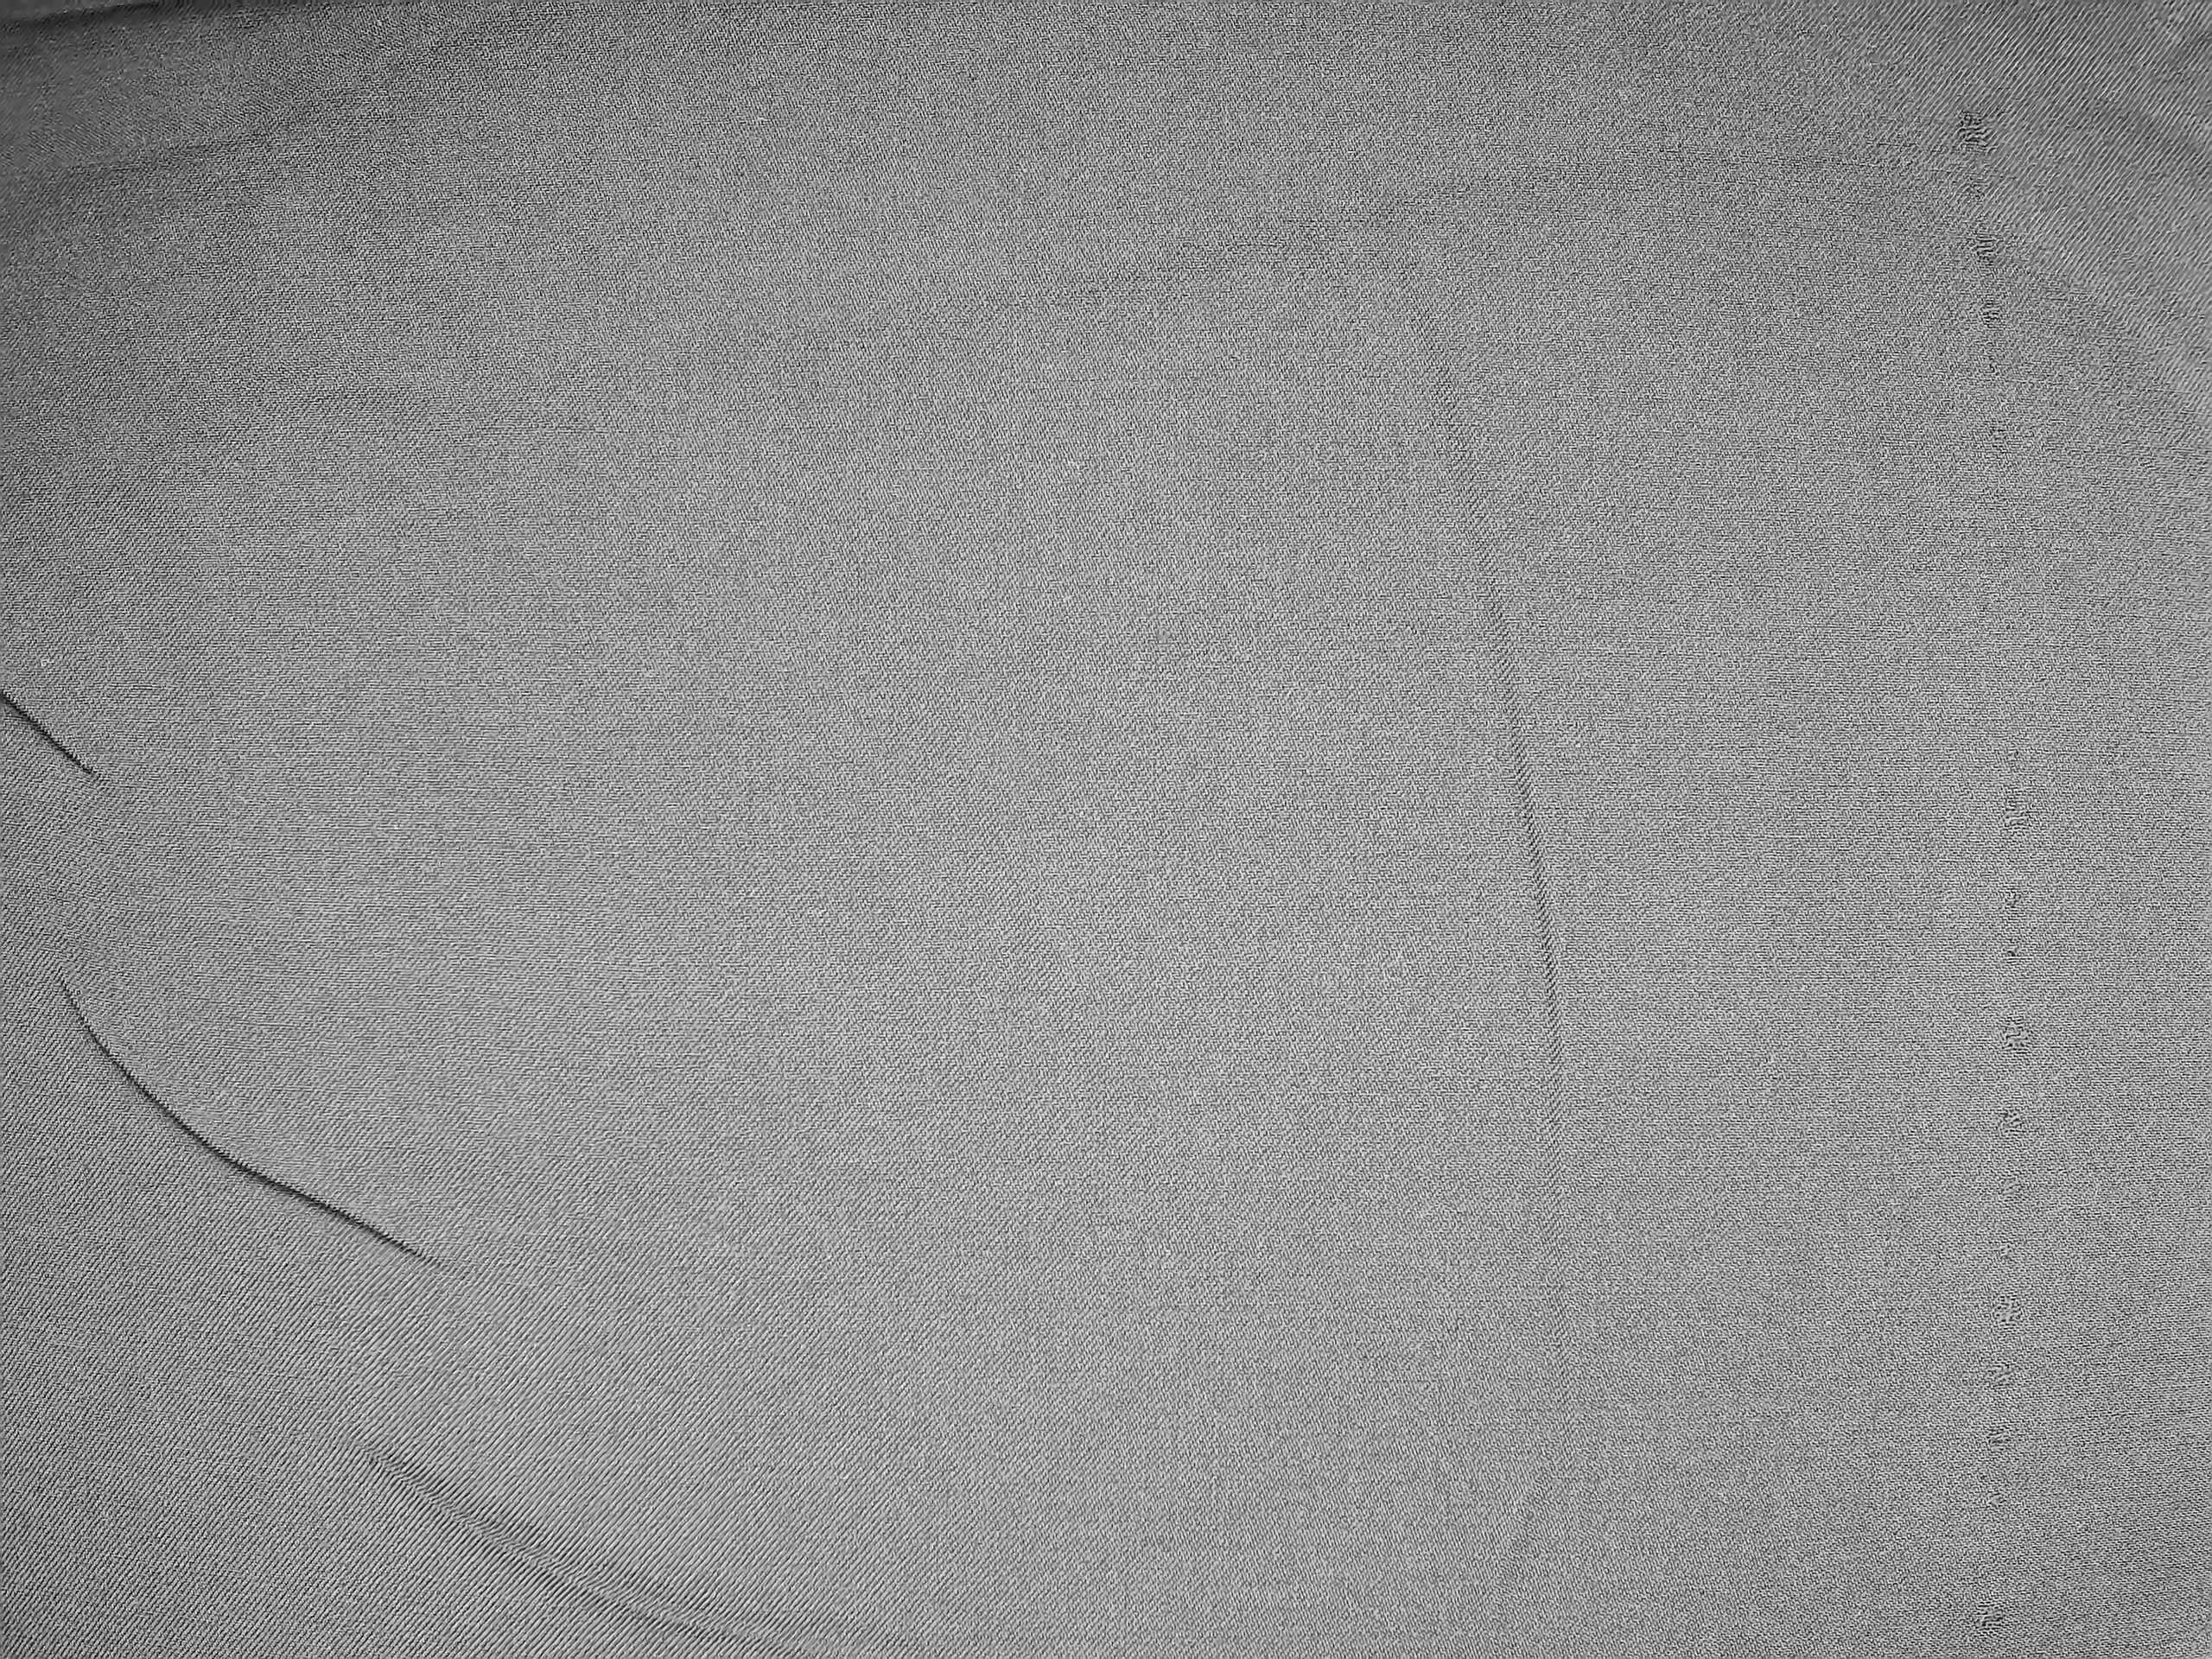rubbing-hole: (1963, 760, 2045, 1633), (1947, 77, 2031, 464)
